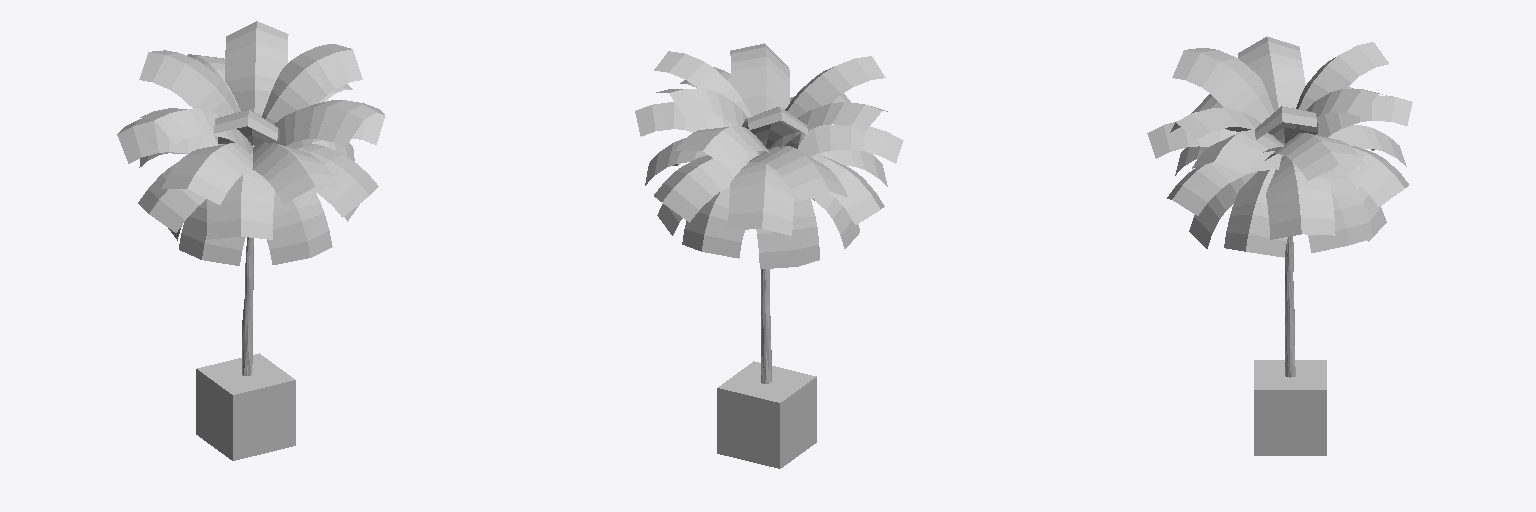
Rendered from export_tree.obj.
3 renders of one model, left to right at view 1: azimuth 30°, elevation 25°; view 2: azimuth 150°, elevation 25°; view 3: azimuth 270°, elevation 25°, orthographic.
Visible parts, largest first — view 1: free_palm, Cube; view 2: free_palm, Cube; view 3: free_palm, Cube.
Part boxes in pixels (bbox=[...]): free_palm: bbox=[117, 21, 384, 375]; Cube: bbox=[196, 353, 295, 460]; free_palm: bbox=[635, 43, 903, 383]; Cube: bbox=[717, 361, 816, 468]; free_palm: bbox=[1147, 36, 1412, 377]; Cube: bbox=[1254, 360, 1326, 455].
Size of the model in its own units: 7.07 by 11.35 by 7.3.